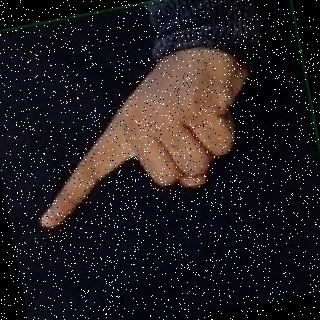I: (23, 54, 258, 224)
